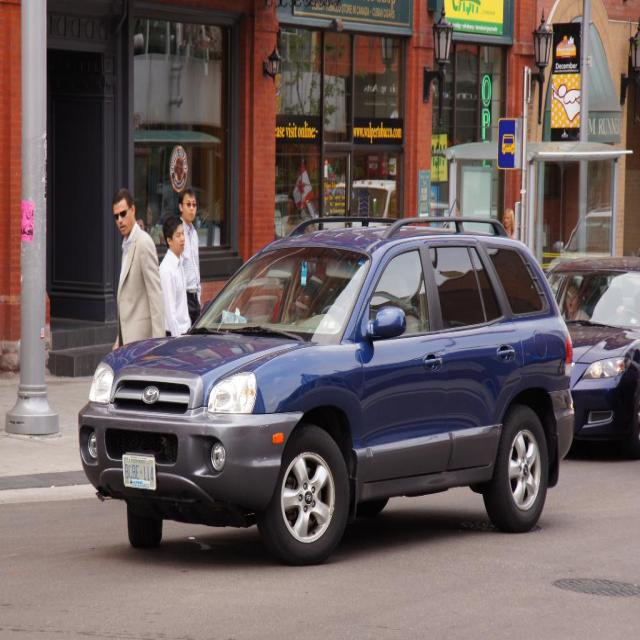car: (97, 223, 564, 564)
